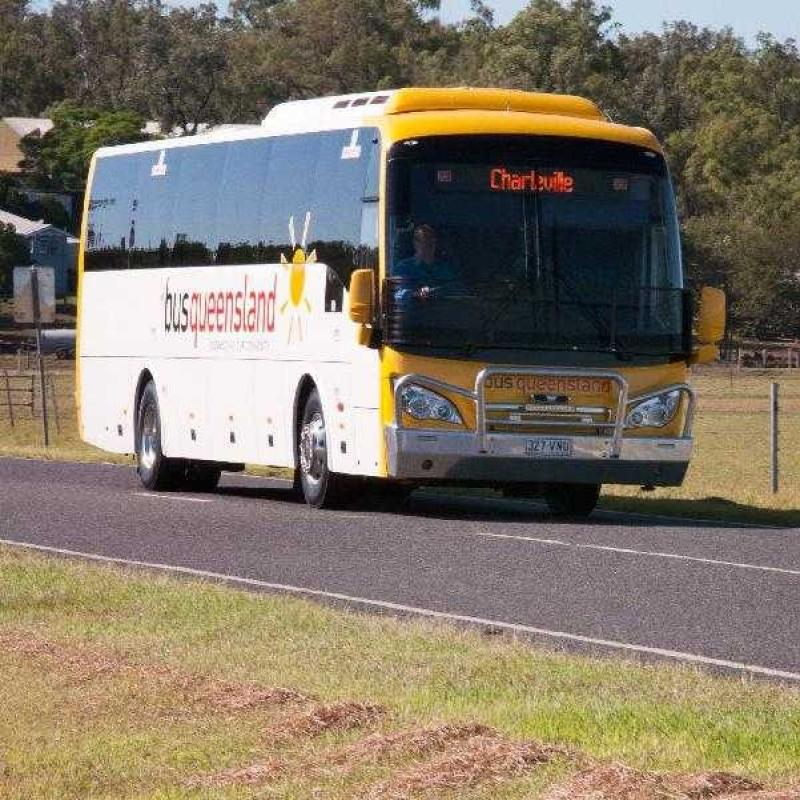bus: (39, 60, 726, 530)
